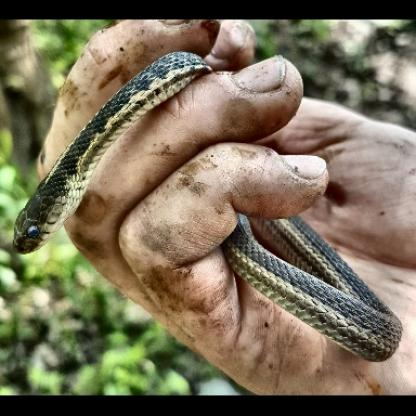Snake: (6, 55, 406, 367)
